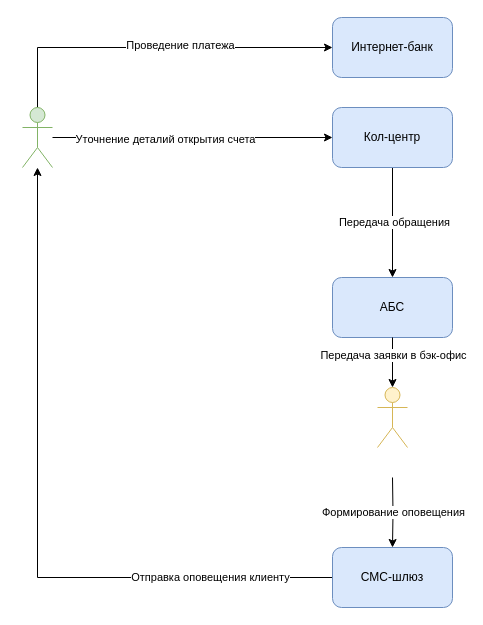
The diagram is 483 pixels wide and 625 high, and some of its shapes have lost their labels. Each missing label, with the centre of its shape:
Клиент: (x=37, y=137)
Сотрудник банка: (x=392, y=417)
